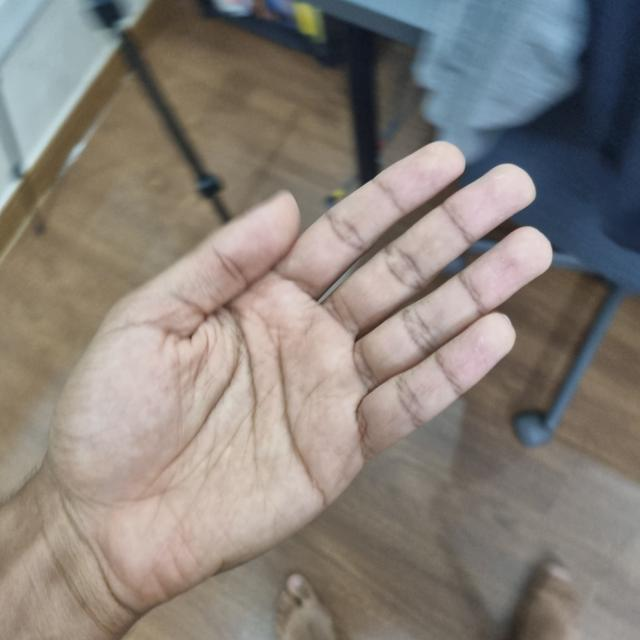Paper: (61, 145, 549, 576)
